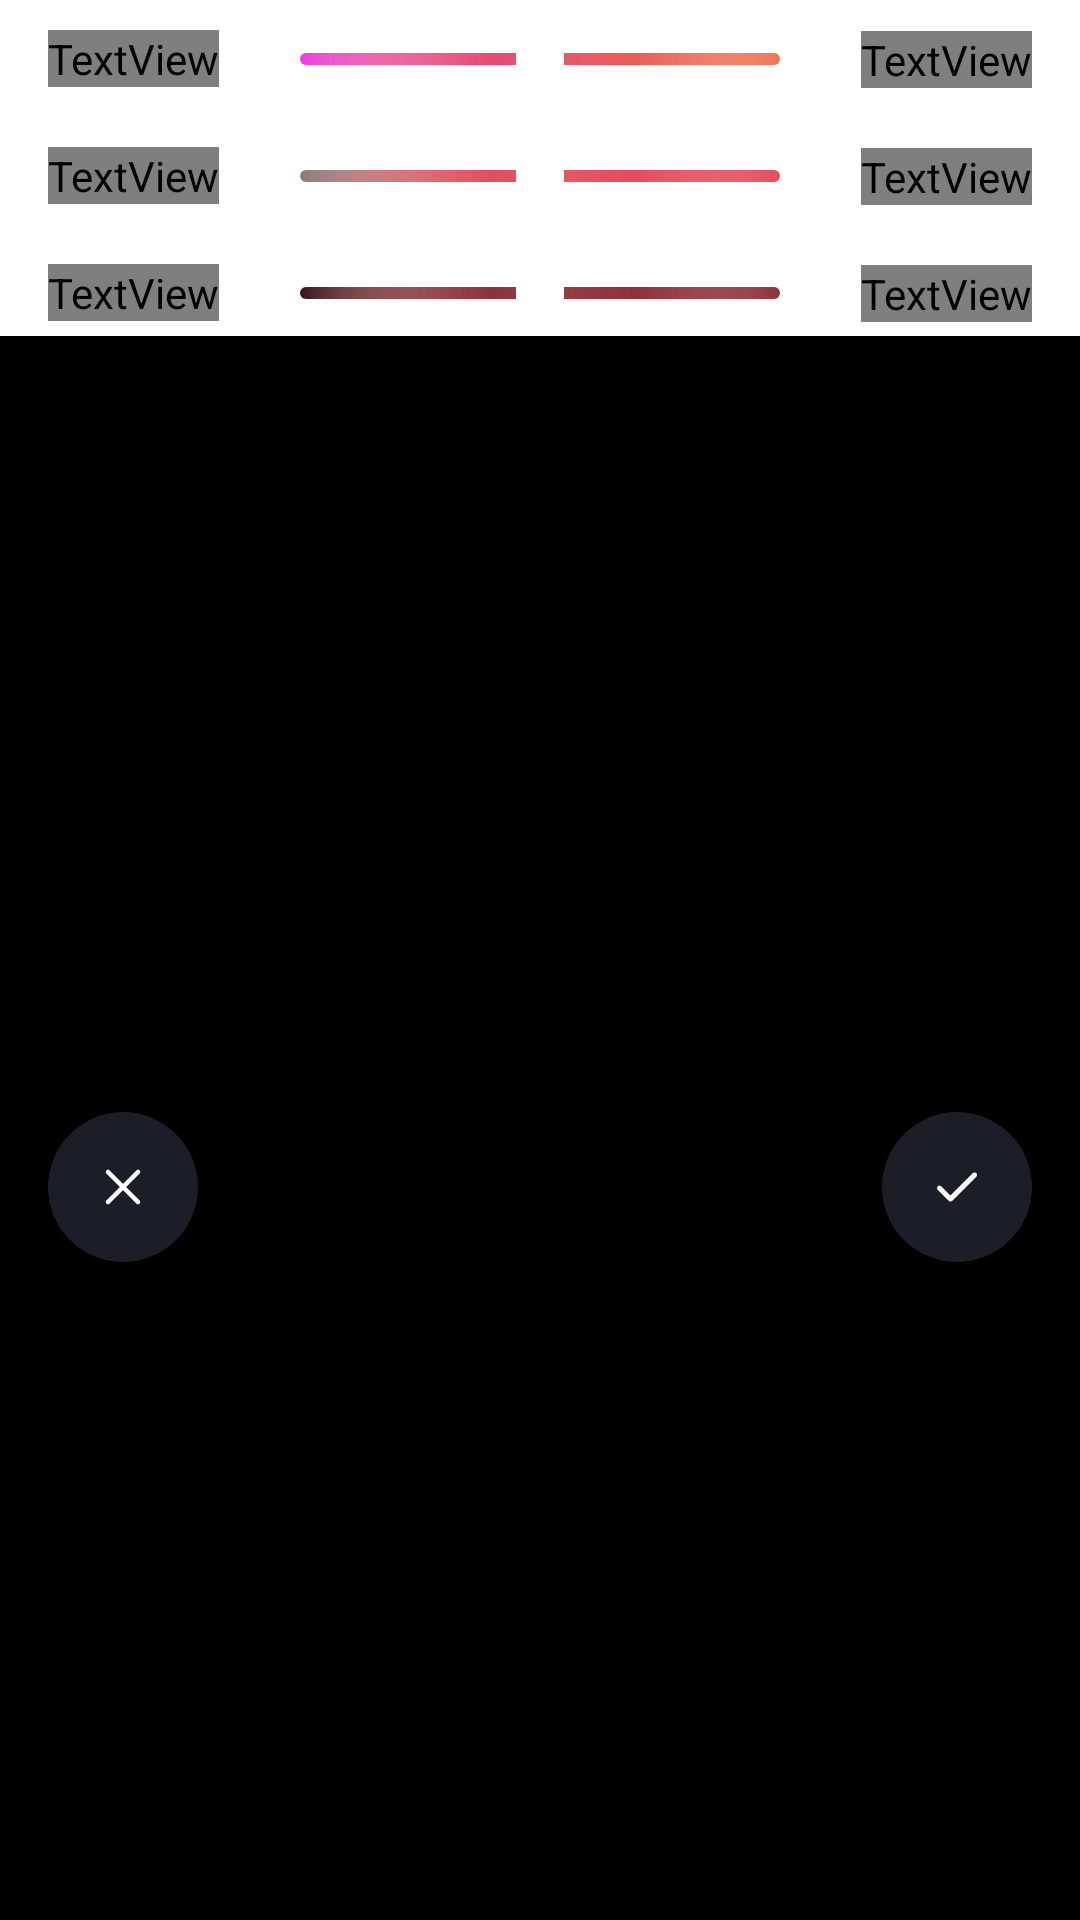

Icons on this 1080px x 1920px Android screen, each with its box as (x1,y1,x2,y2):
edit check: (882,1112,1032,1262)
edit close: (48,1112,198,1262)
